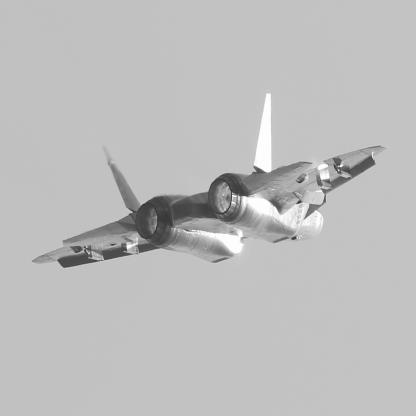Su57: (32, 94, 390, 270)
